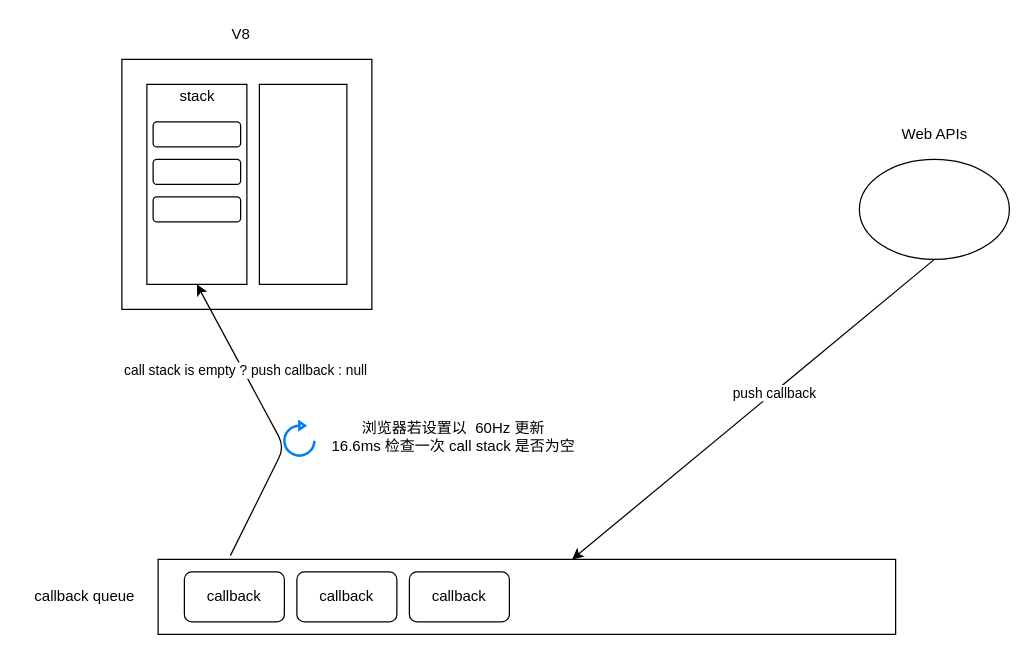
This 1031x656 diagram has some shape labels left out. The shapes that lost their labels are listed below. From the top down, each one's centre as x and y in pixels, then its label:
(x=302, y=183): heap
(x=933, y=208): timers, http DOM
